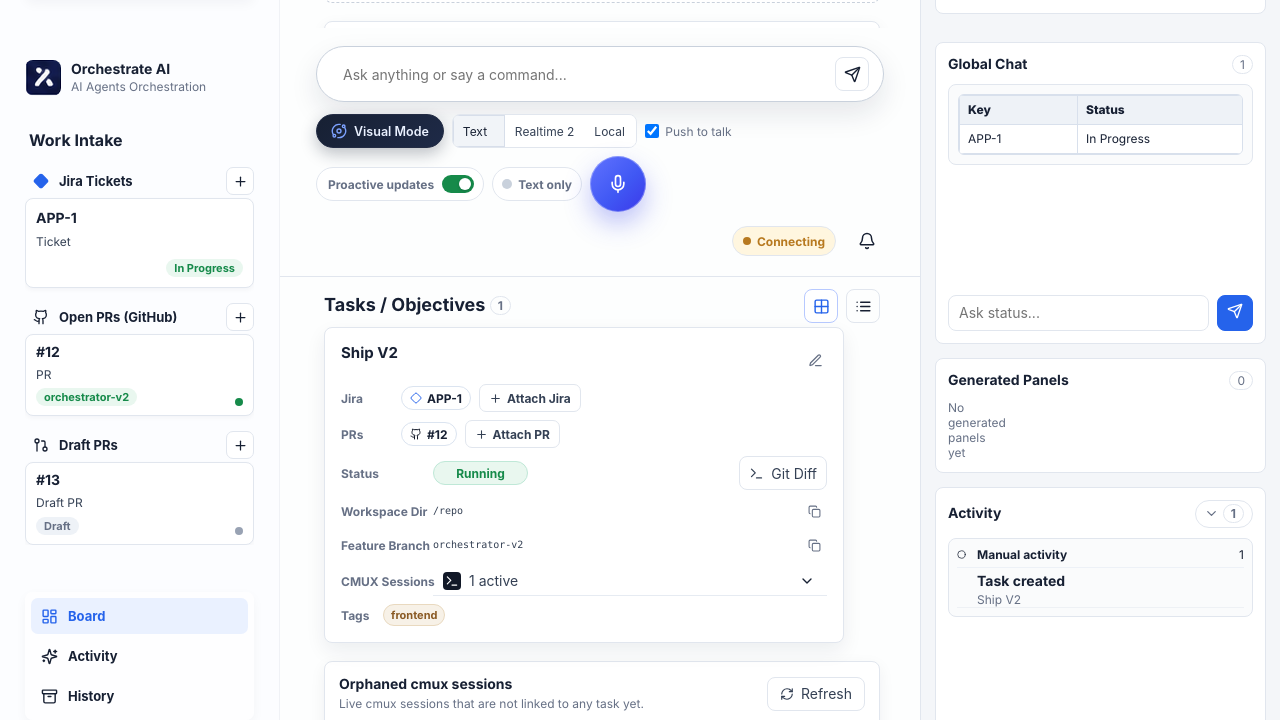
Test case: AppShell › renames a task from its card
(page scrolled)
Expected: the heading "Ship V2" is shown, [341, 343, 398, 362]
Click the button named "Rename task": click(815, 360) [803, 348, 827, 372]
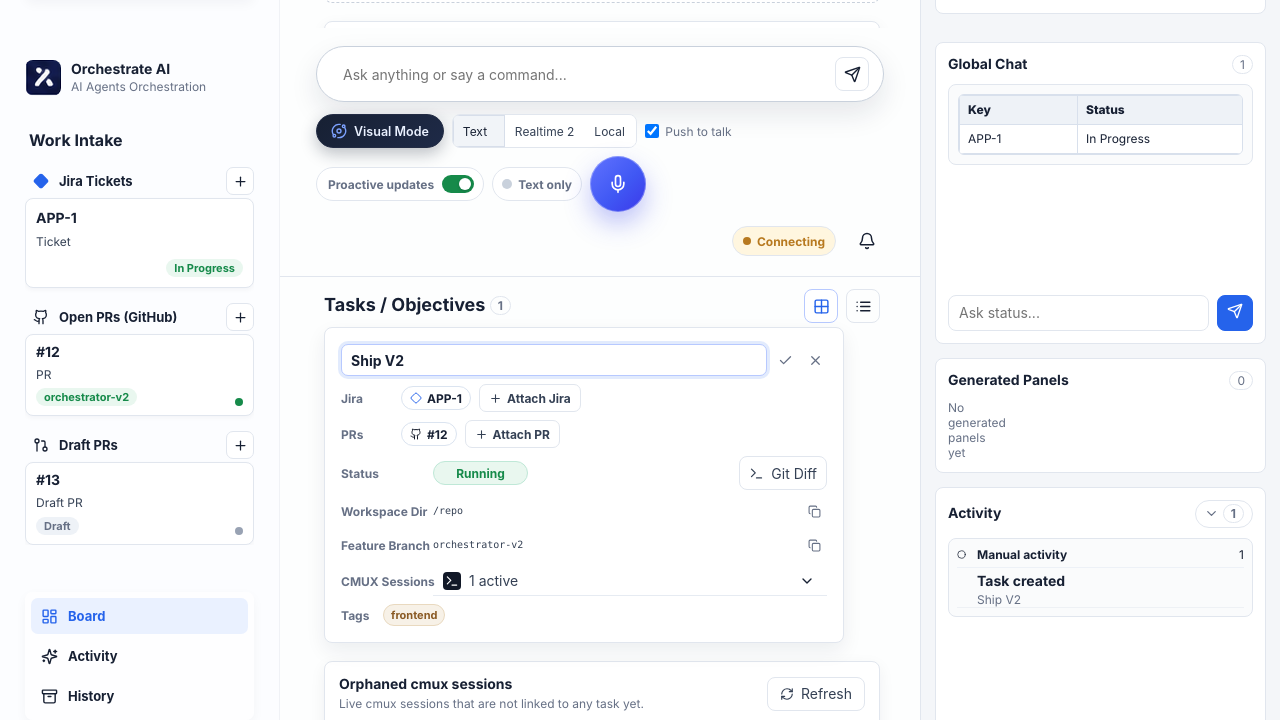
Replace the text in the field named "Task name" with "Renamed Task": (554, 360) [341, 344, 767, 376]
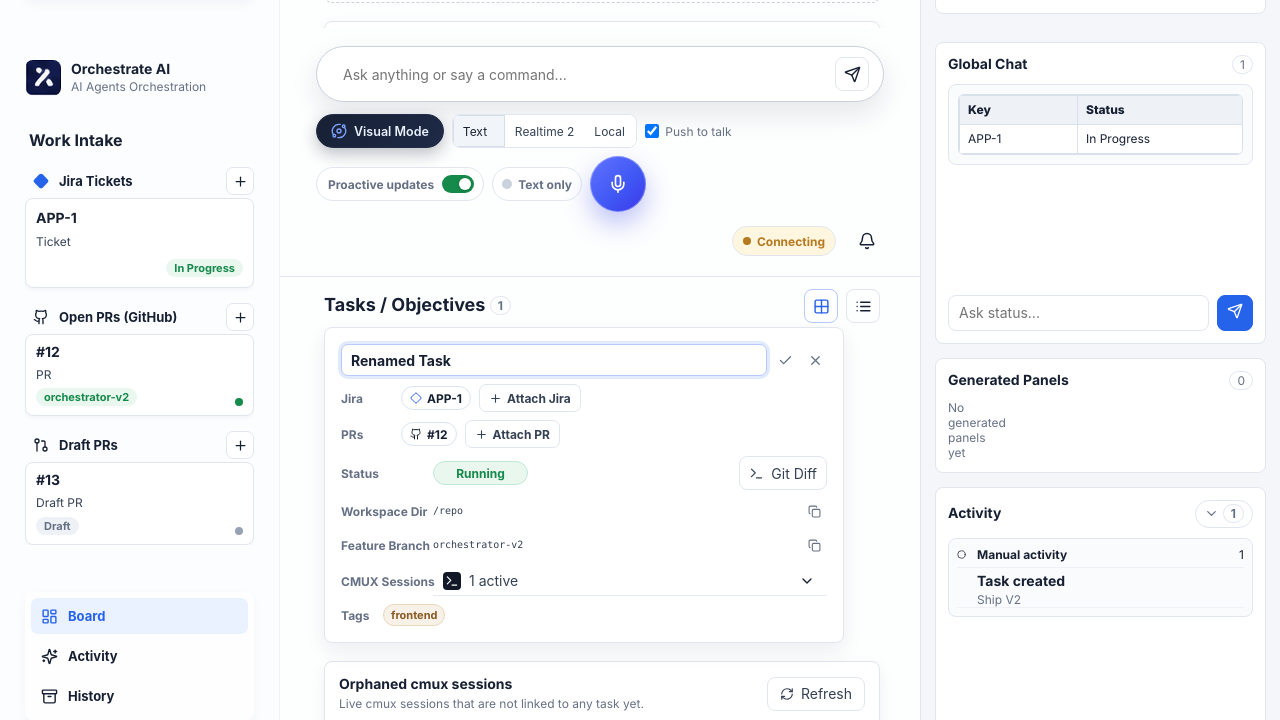
Click the button named "Save task name": click(785, 360) [773, 348, 797, 372]
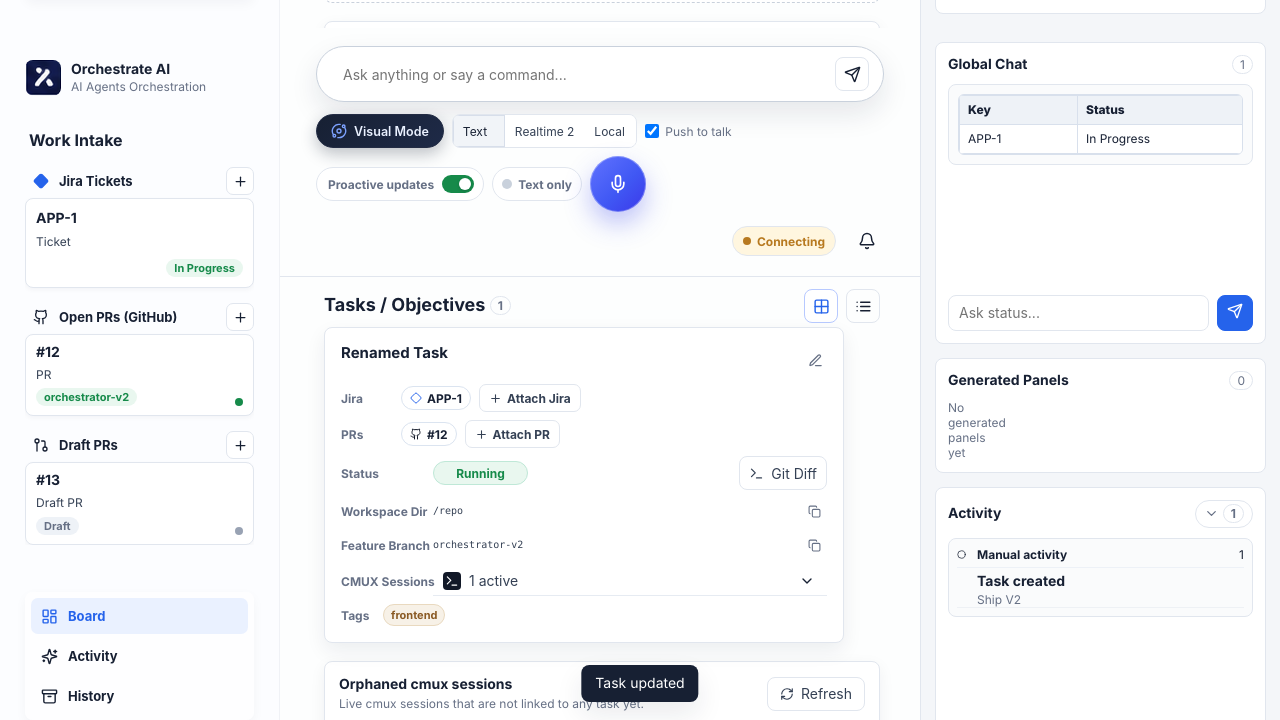
Expected: the heading "Renamed Task" is shown, [341, 343, 448, 362]
